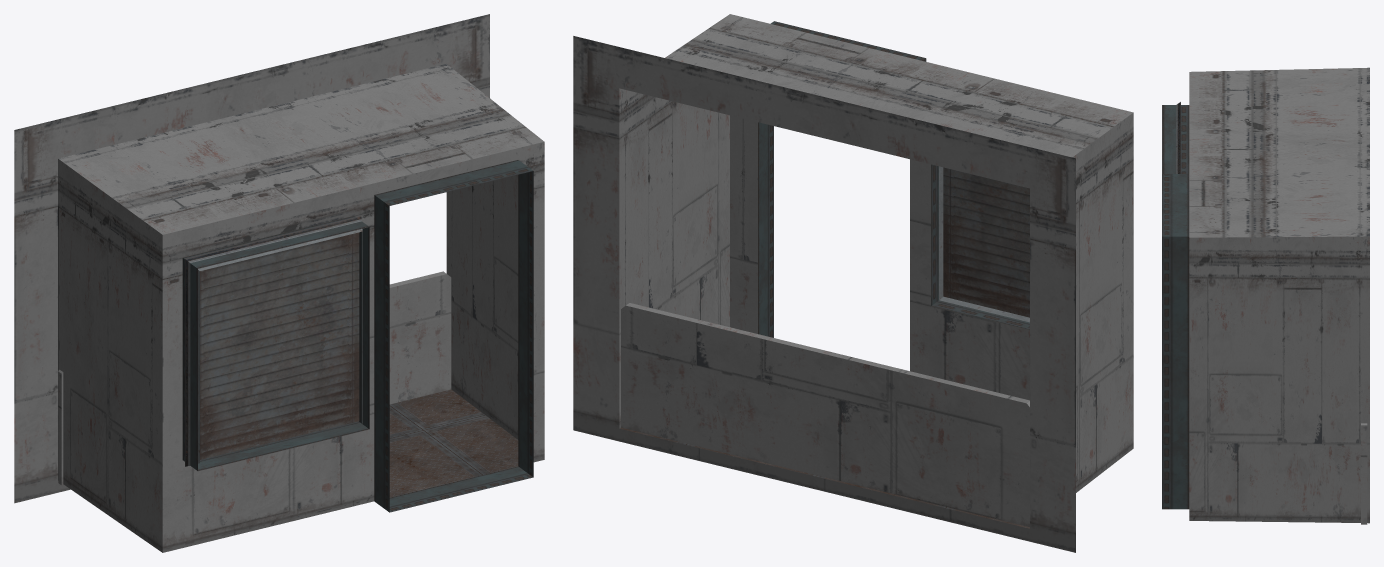
Rendered from ARC0910211.fbx.
3 renders of one model, left to right at view 1: azimuth 30°, elevation 25°; view 2: azimuth 150°, elevation 25°; view 3: azimuth 270°, elevation 25°, orthographic. The views are drawn at different scales.
Visible parts, largest first — view 1: smARC0910211; view 2: smARC0910211; view 3: smARC0910211.
Part boxes in pixels (x1=…): smARC0910211: x1=14, y1=14, x2=544, y2=552; smARC0910211: x1=573, y1=14, x2=1133, y2=552; smARC0910211: x1=1162, y1=67, x2=1369, y2=524.
Bounding box in the file's own units: 400 × 300 × 170.
1 material, 1 textured.
